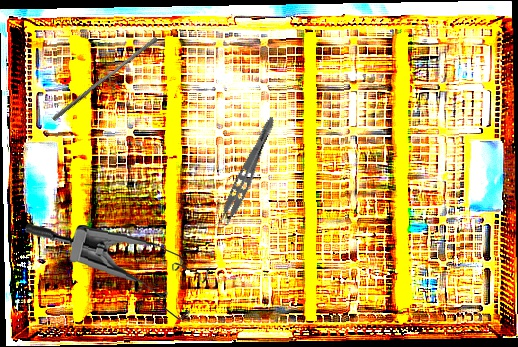Pusher: (51, 32, 159, 126)
Speculum: (19, 222, 214, 322)
Tissue Forceps: (209, 111, 279, 236)
